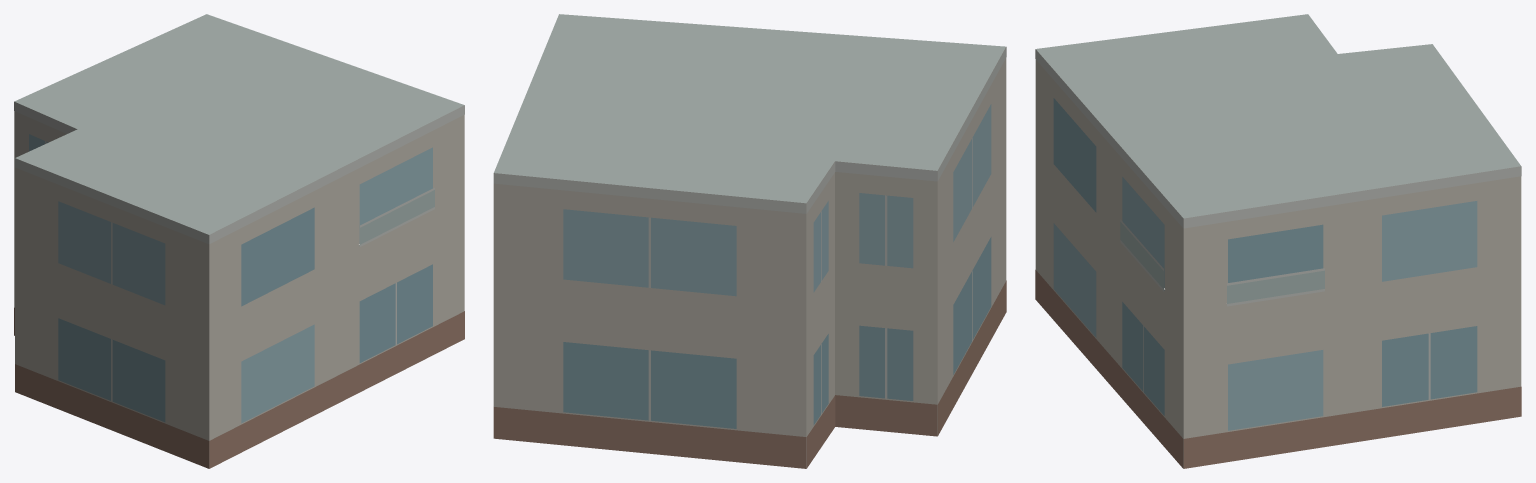
The model's file is survey-upis-32965579.glb.
3 renders of one model, left to right at view 1: azimuth 30°, elevation 25°; view 2: azimuth 150°, elevation 25°; view 3: azimuth 270°, elevation 25°, orthographic. The views are drawn at different scales.
Visible parts, largest first — view 1: survey-upis-32965579.tmp; view 2: survey-upis-32965579.tmp; view 3: survey-upis-32965579.tmp.
Boxes of the visible parts, x1,y1,x2,y2 form: survey-upis-32965579.tmp: [14, 14, 464, 468]; survey-upis-32965579.tmp: [493, 14, 1006, 468]; survey-upis-32965579.tmp: [1035, 14, 1521, 468].
Bounding box in the file's own units: 10.7 × 6.1 × 10.74.
